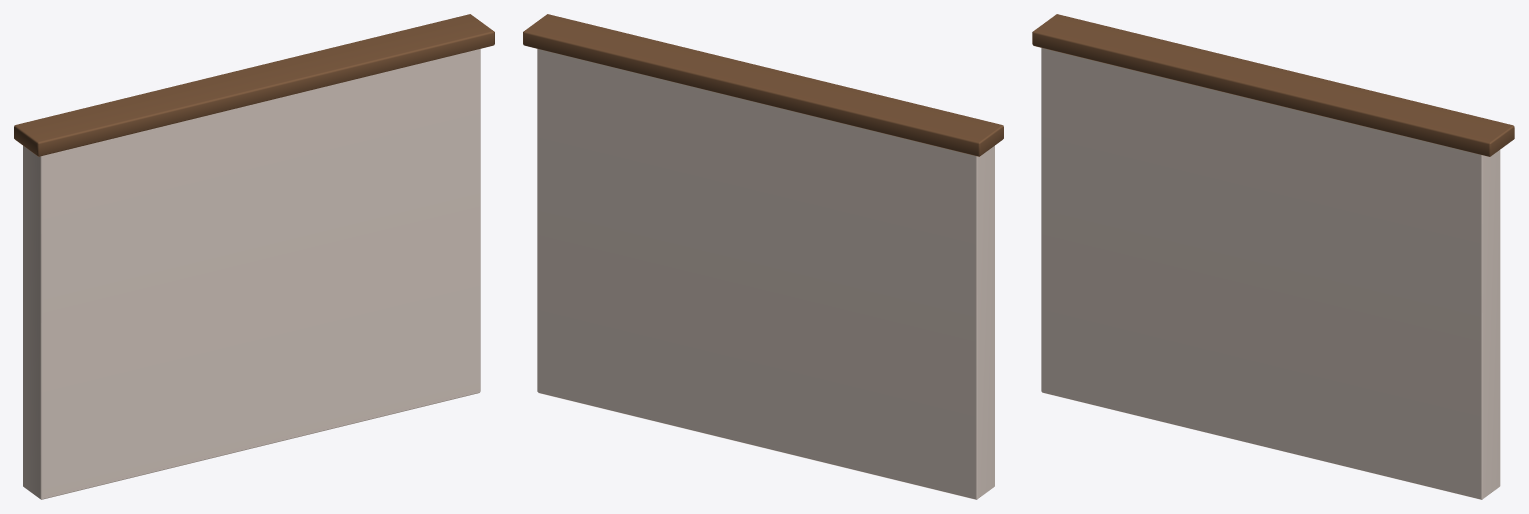
The model's file is Wall_white_brown.glb.
3 views of the same model, side by side, from view 1: azimuth 30°, elevation 25°; view 2: azimuth 150°, elevation 25°; view 3: azimuth 330°, elevation 25° (orthographic).
Visible parts, largest first — view 1: Wall_12; view 2: Wall_12; view 3: Wall_12.
Part boxes in pixels (bbox=[...]): Wall_12: bbox=[14, 14, 494, 499]; Wall_12: bbox=[523, 14, 1003, 499]; Wall_12: bbox=[1032, 14, 1514, 499].
Size of the model in its own units: 5.61 by 4.23 by 0.5396.
Materials: 1 (1 with a texture image).
